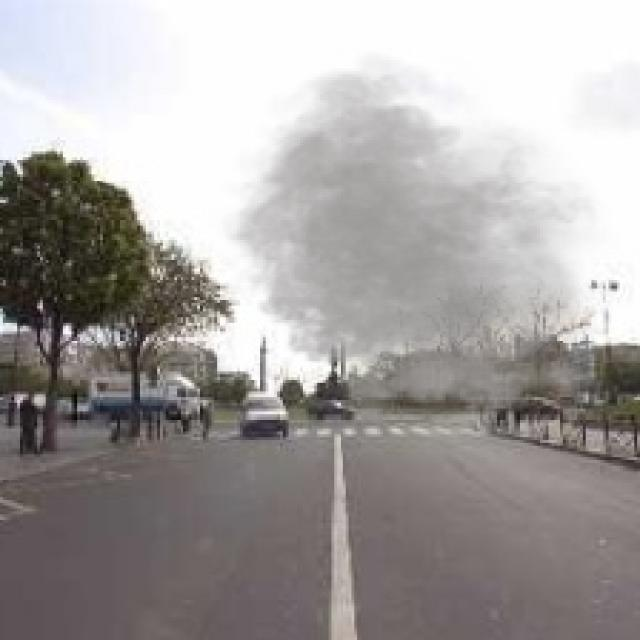smoke: (209, 57, 620, 432)
